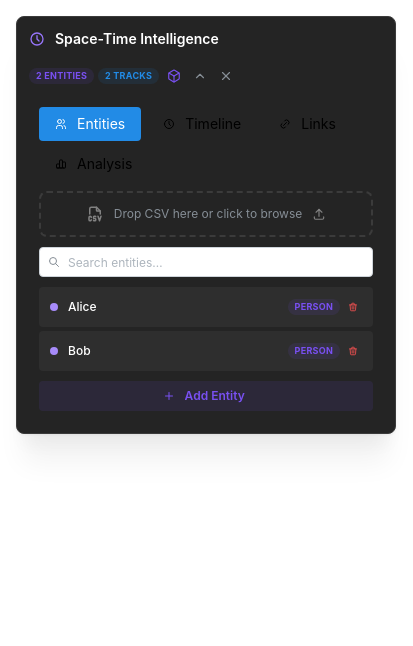
Test case: Analysis tab buttons › runs geofence crossings and names the fence alice entered
The width and height of the screenshot is (413, 646).
Click the tab "Analysis".
click(94, 164)  # box [39, 147, 148, 181]
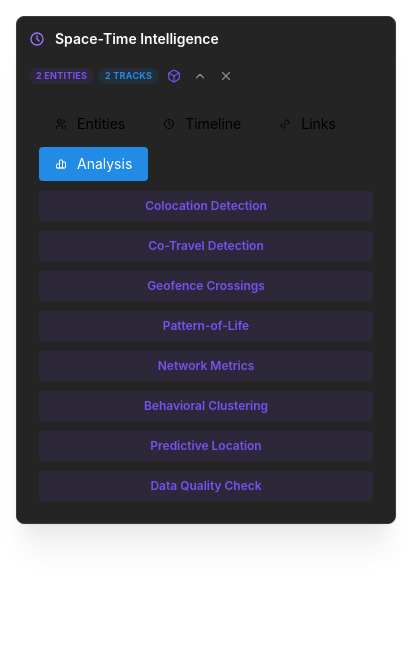
Expected: the button "Colocation Detection" is shown, [39, 191, 373, 221]
Click the button "Geofence Crossings".
click(206, 286)  # box [39, 271, 373, 301]
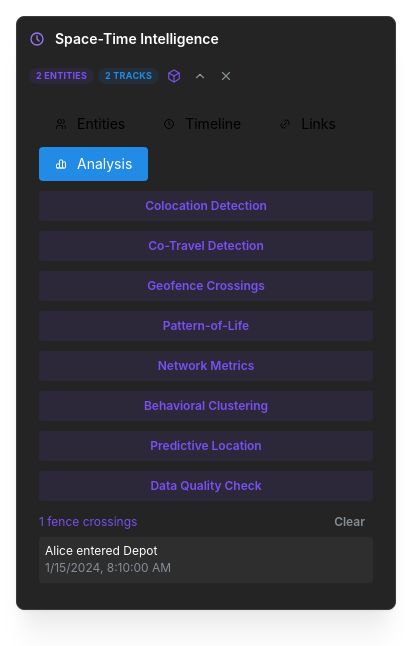
Expected: the text "Alice entered Depot" is shown, [45, 543, 157, 558]
